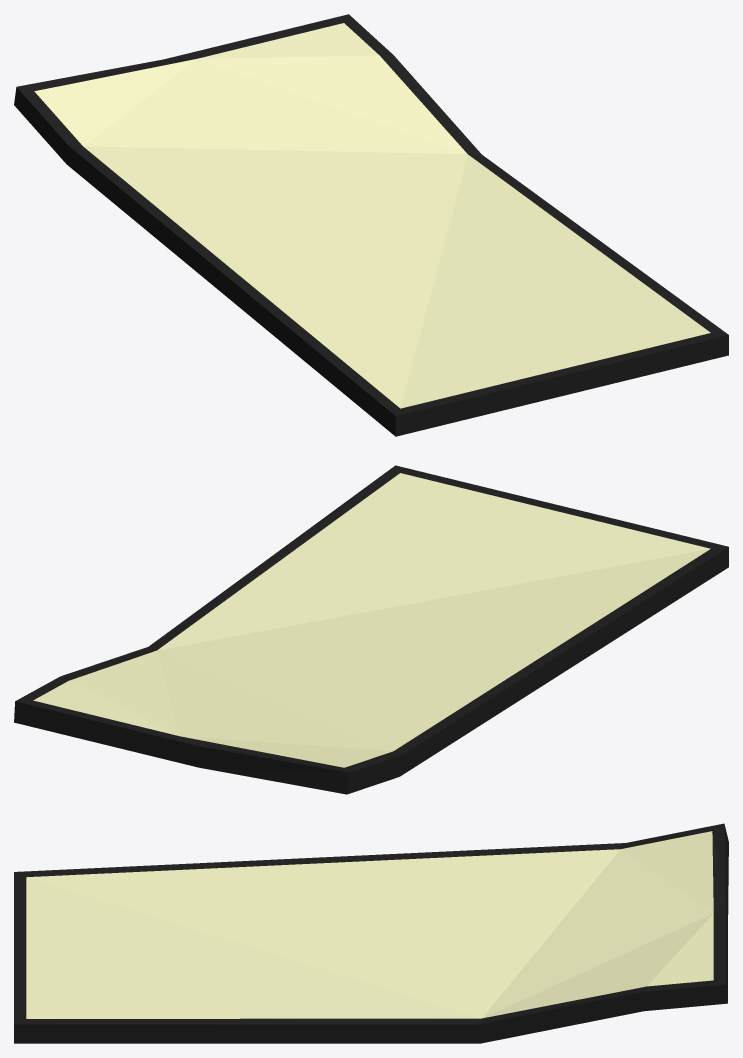
Rendered from Asian_Prop_Tatami_Mat_Small_Damaged_01.FBX.
3 views of the same model, one above another, from view 1: azimuth 30°, elevation 25°; view 2: azimuth 150°, elevation 25°; view 3: azimuth 270°, elevation 25° (orthographic). The views are drawn at different scales.
Visible parts, largest first — view 1: Asian_Prop_Tatami_Mat_Small_Damaged_01; view 2: Asian_Prop_Tatami_Mat_Small_Damaged_01; view 3: Asian_Prop_Tatami_Mat_Small_Damaged_01.
Part boxes in pixels (box(x1,y1,x2,y2)): Asian_Prop_Tatami_Mat_Small_Damaged_01: box(14, 14, 728, 436); Asian_Prop_Tatami_Mat_Small_Damaged_01: box(14, 465, 728, 794); Asian_Prop_Tatami_Mat_Small_Damaged_01: box(14, 823, 728, 1043).
Bounding box in the file's own units: 1292 × 268 × 2563.
